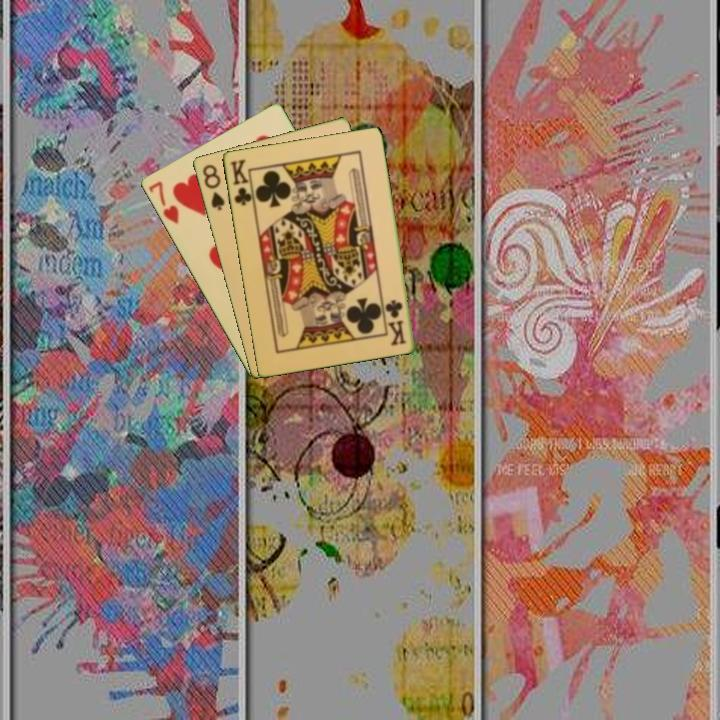7h: (144, 177, 182, 227)
8s: (199, 161, 227, 213)
Kc: (226, 155, 256, 210), (383, 296, 409, 348)
